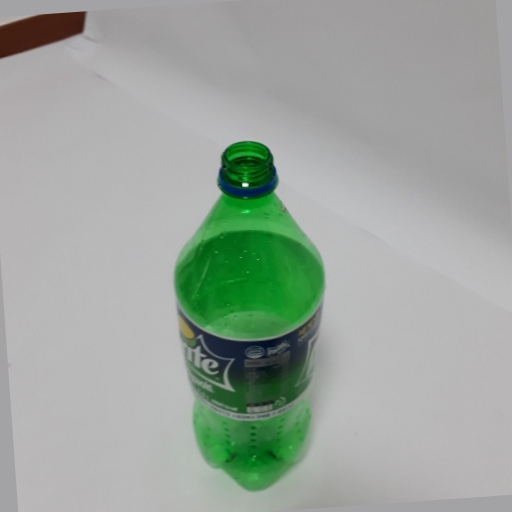Plastic_0: (172, 139, 331, 492)
